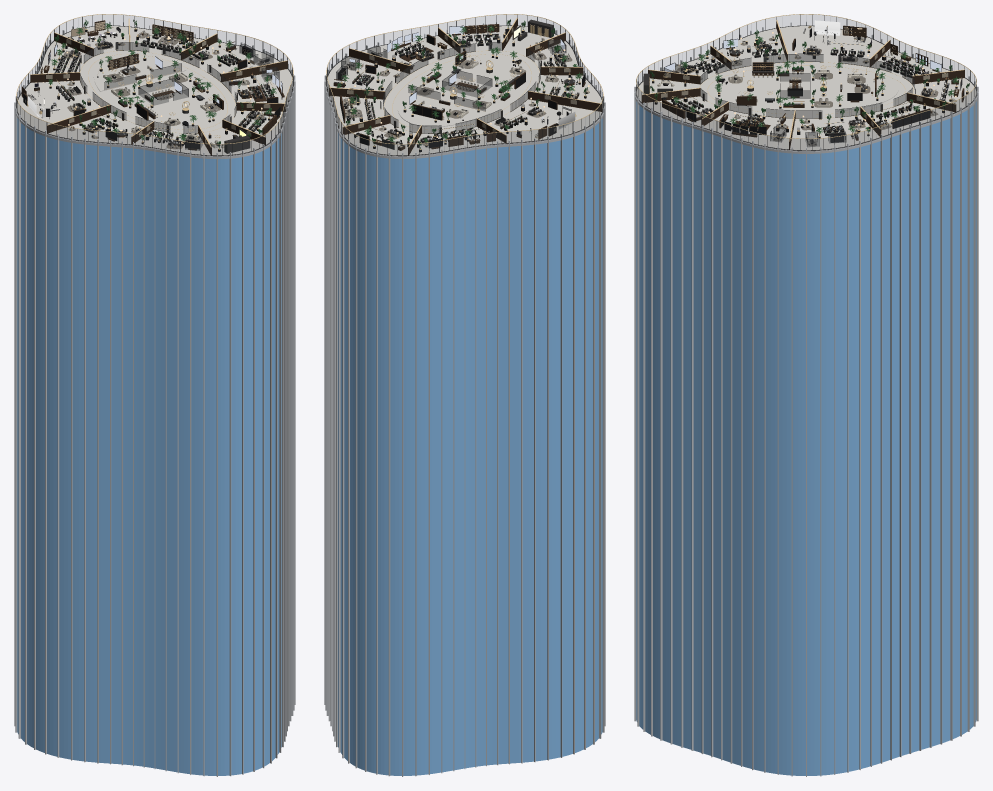
Rendered from office-environment-lit.glb.
3 renders of one model, left to right at view 1: azimuth 30°, elevation 25°; view 2: azimuth 150°, elevation 25°; view 3: azimuth 270°, elevation 25°, orthographic.
Parts seen in each view (by area): view 1: Tower body · lit windows, LM Tower shell, LM Atrium · Max, boardroom & lounge, Curtain wall, LM Walls & partitions, LM Content Studio, LM Web & Search, LM Paid Media, LM Customer Engagement, LM Brain · Strategy & Insights, LM Graphic Design, LM Client Partnerships (+3 smaller); view 2: Tower body · lit windows, LM Tower shell, LM Atrium · Max, boardroom & lounge, Curtain wall, LM Walls & partitions, LM Content Studio, LM Web & Search, LM Paid Media, LM Social, LM Graphic Design, LM Brain · Strategy & Insights, LM Customer Engagement (+3 smaller); view 3: Tower body · lit windows, LM Tower shell, LM Atrium · Max, boardroom & lounge, Curtain wall, LM Walls & partitions, LM Content Studio, LM Web & Search, LM Paid Media, LM Customer Engagement, LM Brain · Strategy & Insights, LM Operations & Finance, LM Social (+3 smaller).
Part boxes in pixels (x1,y1,x2,y2): Tower body · lit windows: [17, 118, 281, 775]; LM Tower shell: [14, 21, 295, 776]; LM Atrium · Max, boardroom & lounge: [80, 48, 236, 133]; Curtain wall: [16, 14, 293, 155]; LM Walls & partitions: [30, 18, 287, 155]; LM Content Studio: [17, 73, 101, 132]; LM Web & Search: [182, 39, 279, 81]; LM Paid Media: [222, 66, 292, 108]; LM Customer Engagement: [48, 105, 144, 144]; LM Brain · Strategy & Insights: [130, 19, 203, 59]; LM Graphic Design: [62, 19, 129, 55]; LM Client Partnerships: [134, 125, 210, 155]; Tower body · lit windows: [338, 118, 602, 775]; LM Tower shell: [324, 22, 605, 776]; LM Atrium · Max, boardroom & lounge: [383, 47, 540, 133]; Curtain wall: [326, 14, 603, 155]; LM Walls & partitions: [329, 18, 602, 155]; LM Content Studio: [486, 95, 601, 142]; LM Web & Search: [327, 55, 408, 97]; LM Paid Media: [362, 32, 458, 72]; LM Social: [409, 123, 504, 155]; LM Graphic Design: [344, 118, 416, 155]; LM Brain · Strategy & Insights: [329, 89, 384, 133]; LM Customer Engagement: [535, 67, 602, 108]; Tower body · lit windows: [636, 101, 976, 775]; LM Tower shell: [634, 21, 978, 776]; LM Atrium · Max, boardroom & lounge: [699, 60, 914, 118]; Curtain wall: [636, 14, 976, 150]; LM Walls & partitions: [641, 20, 964, 149]; LM Content Studio: [780, 20, 883, 66]; LM Web & Search: [790, 106, 879, 150]; LM Paid Media: [703, 106, 792, 149]; LM Customer Engagement: [718, 28, 786, 69]; LM Brain · Strategy & Insights: [866, 96, 954, 136]; LM Operations & Finance: [643, 90, 721, 126]; LM Social: [871, 43, 952, 82].
Size of the model in its own units: 80.31 by 189 by 92.3.
Materials: 121 (76 with a texture image).
